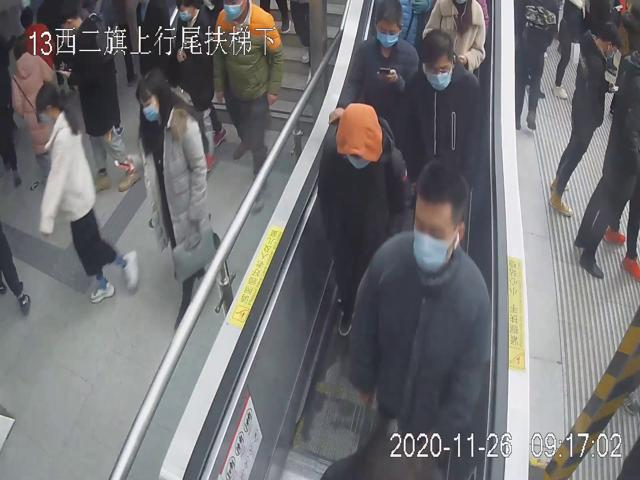person: (345, 153, 490, 456), (30, 76, 137, 302), (316, 99, 414, 339), (137, 62, 223, 332), (395, 28, 490, 210), (545, 15, 622, 223), (324, 0, 421, 120)
